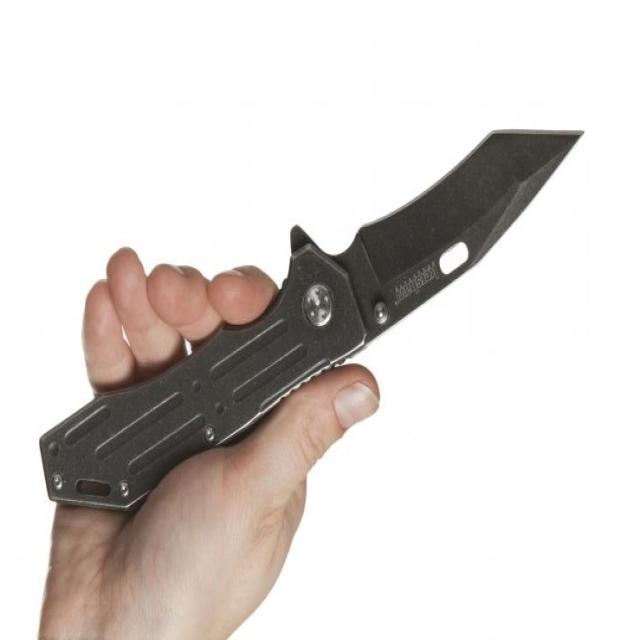knife: (35, 115, 603, 528)
